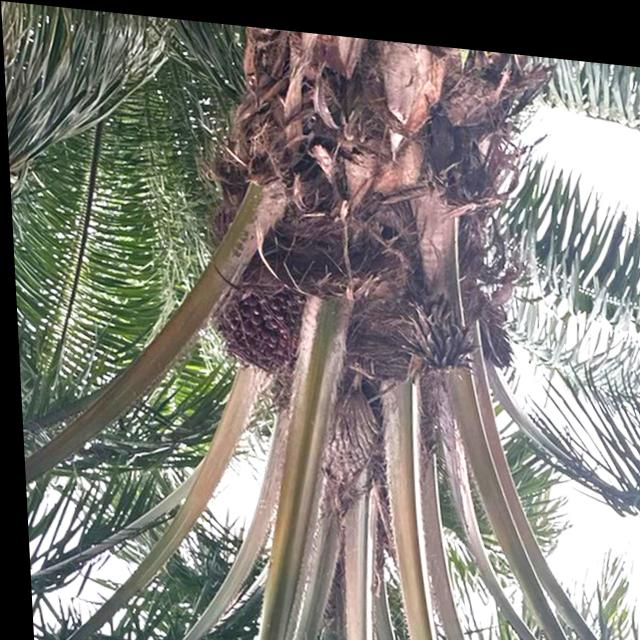ripe: (201, 267, 309, 390)
